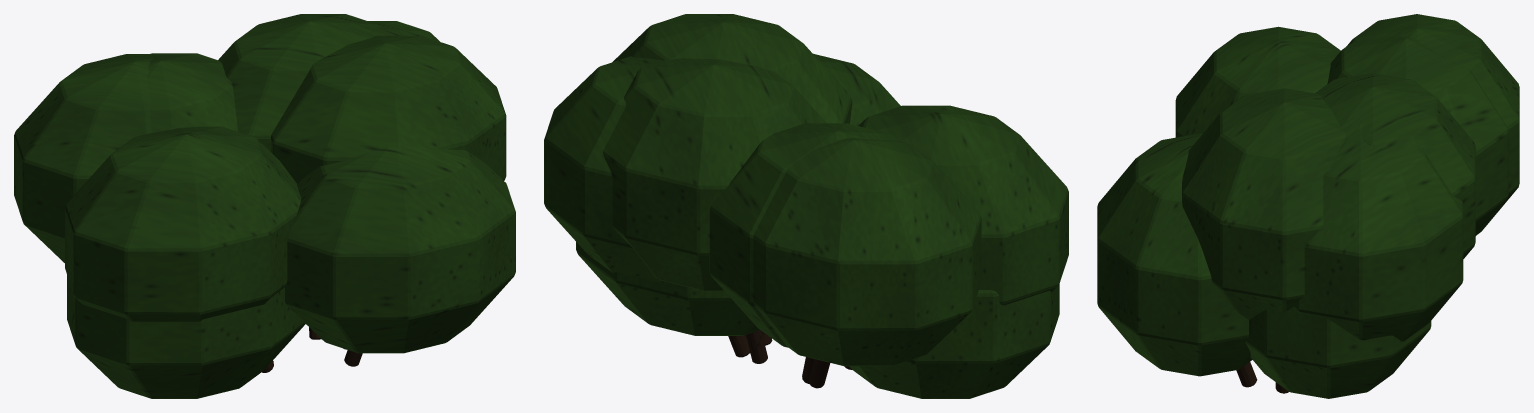
Rendered from PROP-70BCB4C8377F_lod1.glb.
3 renders of one model, left to right at view 1: azimuth 30°, elevation 25°; view 2: azimuth 150°, elevation 25°; view 3: azimuth 270°, elevation 25°, orthographic. The views are drawn at different scales.
Visible parts, largest first — view 1: foliage.001; view 2: foliage.001, plant_stem.001; view 3: foliage.001, plant_stem.001.
Boxes of the visible parts, x1=… form: foliage.001: x1=14, y1=14, x2=515, y2=398; foliage.001: x1=544, y1=14, x2=1068, y2=398; plant_stem.001: x1=728, y1=330, x2=851, y2=388; foliage.001: x1=1097, y1=14, x2=1519, y2=398; plant_stem.001: x1=1236, y1=362, x2=1288, y2=393.
Bounding box in the file's own units: 1.11 × 0.7284 × 0.8934.
2 materials, 2 textured.
